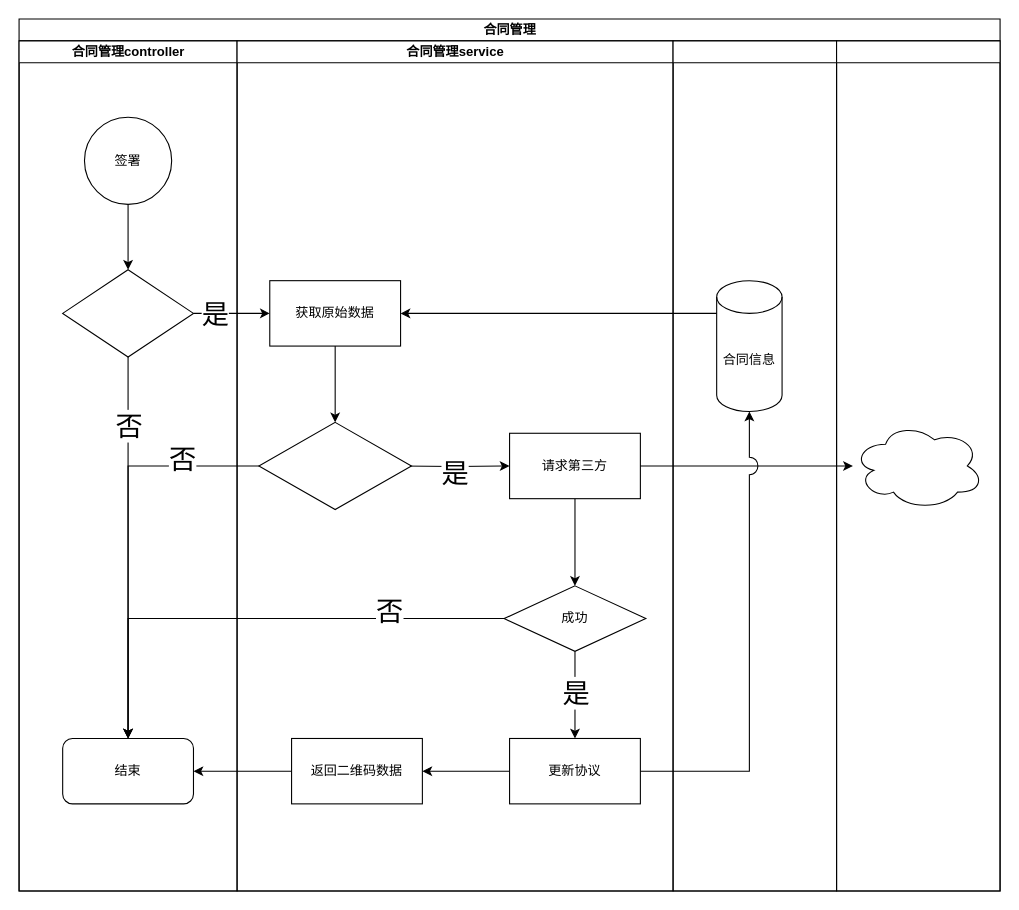
This 1019x910 diagram has some shape labels left out. The box of each missing label's shape, as (x1, y1, x2, y2) in pixels:
信息完整: (258, 421, 411, 510)
合同管理dao: (672, 40, 837, 891)
外部系统: (852, 421, 984, 510)
校验参数: (62, 269, 193, 357)
第三方平台: (835, 40, 1000, 891)
